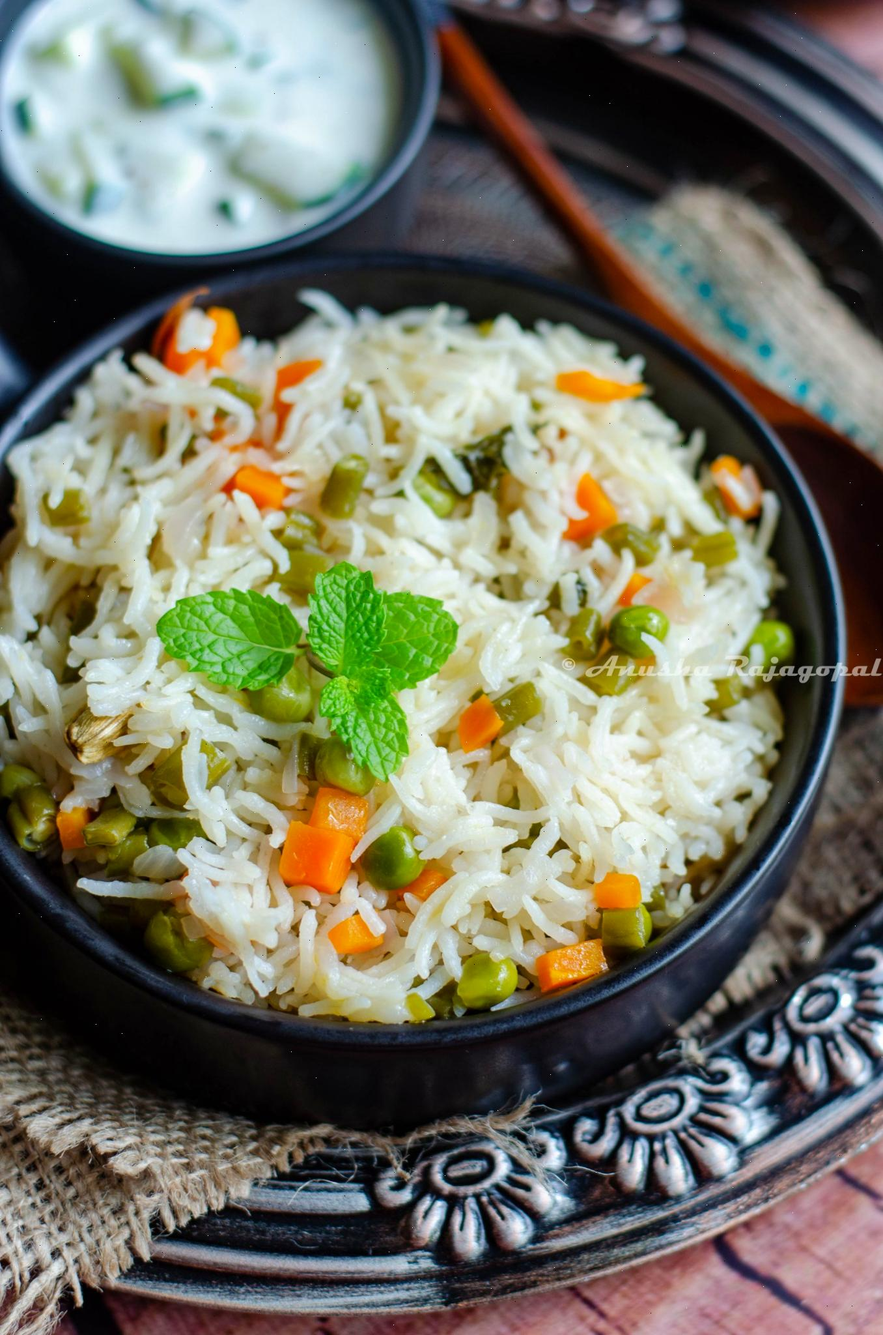veg-pulao: (8, 246, 882, 1075)
yogurt: (13, 4, 479, 250)
